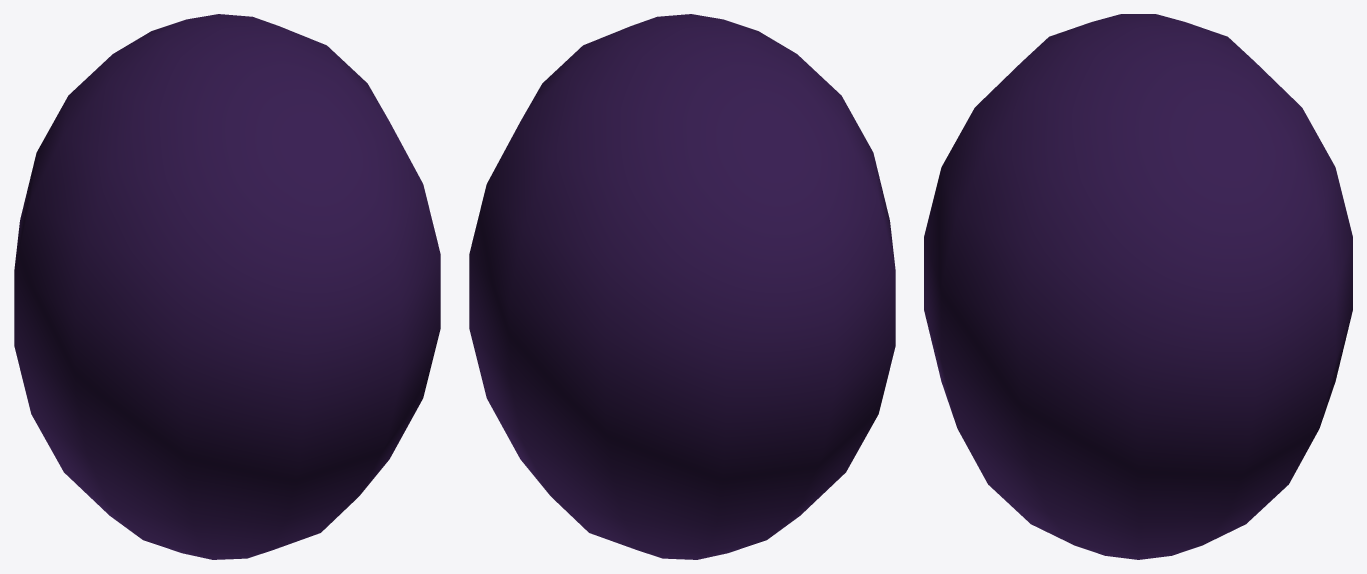
File: velune_stage3.obj
3 views of the same model, side by side, from view 1: azimuth 30°, elevation 25°; view 2: azimuth 150°, elevation 25°; view 3: azimuth 270°, elevation 25° (orthographic).
Bounding box in the file's own units: 2.72 × 3.64 × 2.74.
